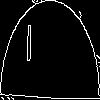I: (25, 24, 33, 71)
